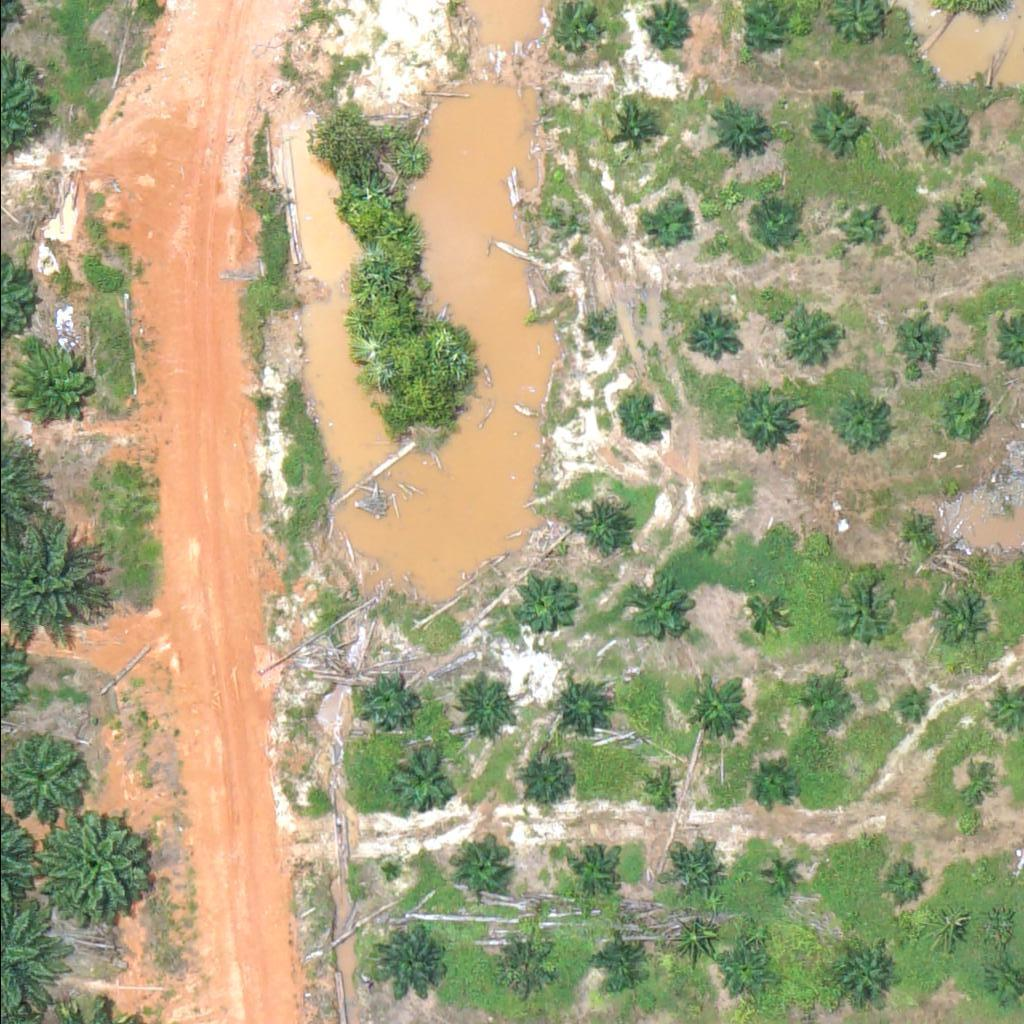Kelapa_Sawit: (38, 804, 152, 917), (5, 339, 93, 426), (833, 576, 909, 651), (371, 923, 447, 998), (384, 737, 460, 812), (667, 836, 730, 899), (626, 573, 689, 636), (703, 98, 766, 161), (449, 670, 512, 733), (517, 569, 580, 632), (448, 837, 511, 900), (352, 669, 415, 732), (685, 672, 748, 734), (737, 389, 800, 451), (829, 940, 892, 1002), (774, 307, 837, 369), (929, 587, 992, 649), (827, 386, 890, 448), (932, 193, 995, 255), (489, 936, 552, 998), (572, 492, 635, 554), (548, 677, 610, 739), (520, 744, 582, 806), (714, 942, 765, 992), (648, 196, 699, 246), (747, 200, 798, 250), (810, 98, 861, 148), (742, 3, 793, 53), (644, 3, 695, 53), (605, 103, 656, 153), (593, 937, 643, 987), (683, 311, 733, 361), (616, 392, 666, 442), (899, 318, 949, 368), (792, 671, 842, 721), (939, 384, 989, 434), (921, 103, 971, 153), (570, 841, 620, 891), (745, 757, 795, 807), (736, 588, 786, 638), (679, 503, 729, 553), (896, 511, 946, 561), (544, 5, 594, 55), (636, 773, 674, 811), (893, 686, 931, 724), (957, 767, 995, 805), (983, 966, 1021, 1003), (761, 852, 799, 889), (886, 866, 923, 904), (844, 206, 882, 243), (588, 317, 613, 342), (811, 527, 836, 552), (554, 222, 579, 247)
